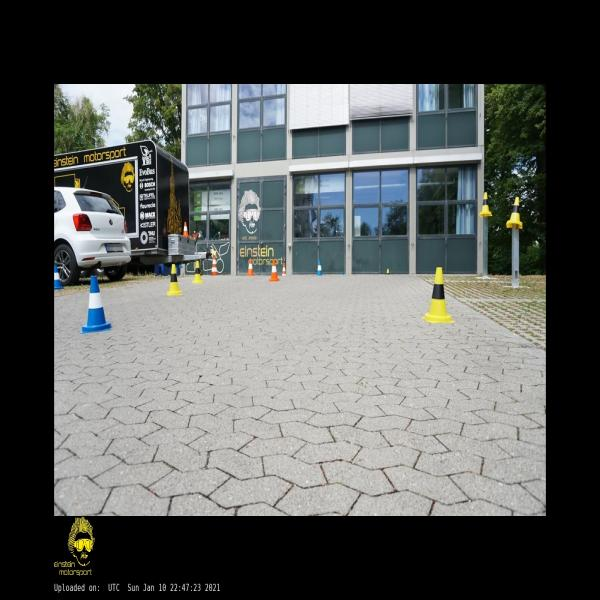blue_cone: (80, 276, 111, 334), (54, 264, 64, 289), (317, 260, 322, 276)
large_orange_cone: (211, 257, 217, 275), (282, 263, 286, 275)
orange_cone: (270, 260, 279, 281), (247, 258, 254, 276), (183, 221, 188, 236)
yellow_cone: (422, 268, 455, 324), (506, 196, 523, 228), (167, 264, 182, 295), (479, 192, 493, 217), (192, 261, 202, 283)
